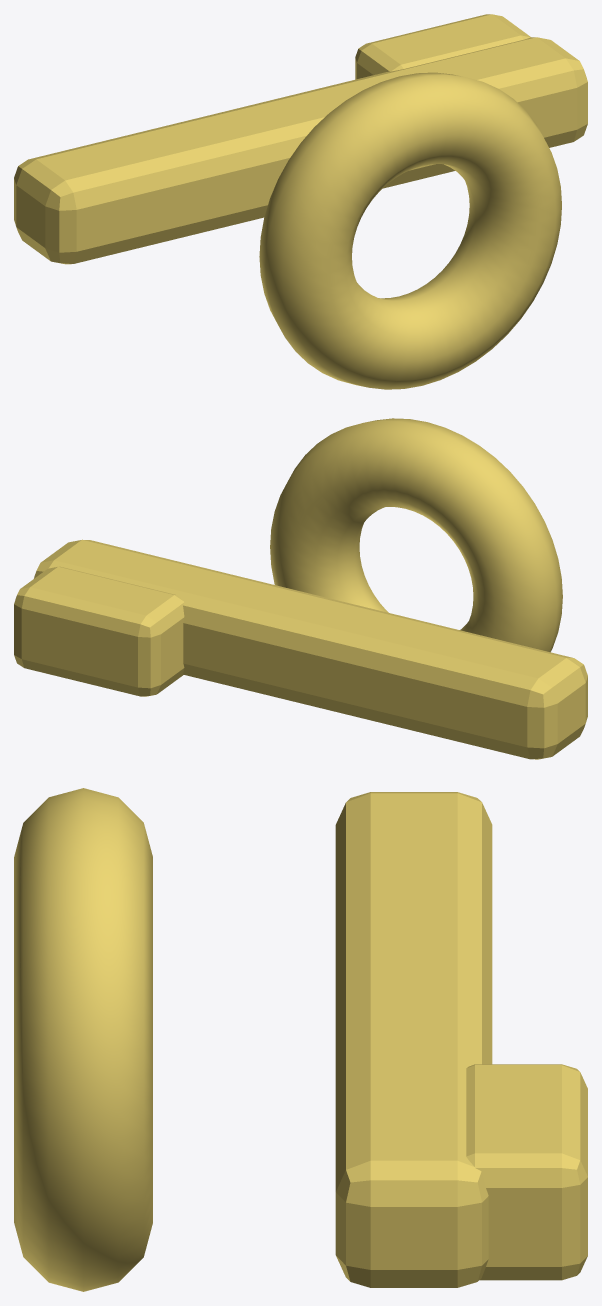
File: item_key.glb
3 views of the same model, one above another, from view 1: azimuth 30°, elevation 25°; view 2: azimuth 150°, elevation 25°; view 3: azimuth 270°, elevation 25° (orthographic). The views are drawn at different scales.
Parts seen in each view (by area): view 1: head, shaft, tooth; view 2: shaft, head, tooth; view 3: shaft, head, tooth.
Part boxes in pixels (<box>): head: <box>259,72,561,389</box>; shaft: <box>14,37,587,264</box>; tooth: <box>355,14,530,79</box>; shaft: <box>34,539,587,759</box>; head: <box>270,418,562,652</box>; tooth: <box>14,566,184,696</box>; shaft: <box>335,792,492,1287</box>; head: <box>14,788,152,1291</box>; tooth: <box>466,1064,587,1280</box>.
Bounding box in the file's own units: 0.054 × 0.029 × 0.033.
